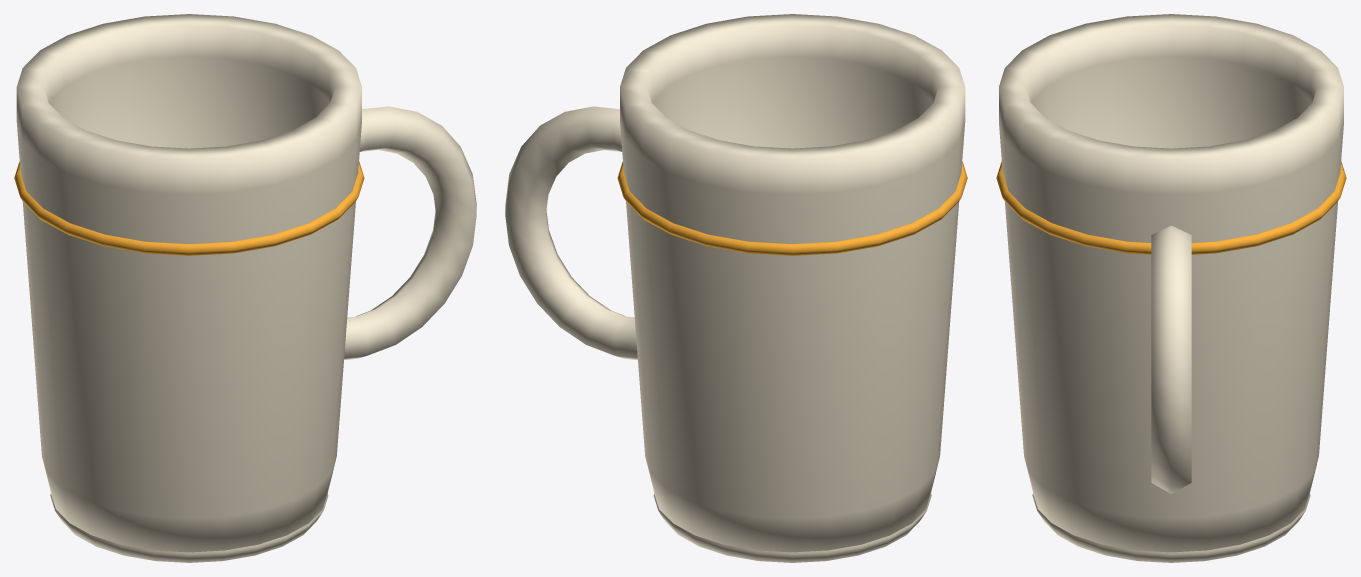
The model's file is ceramic_cup.fbx.
The picture shows the model from 3 angles, left to right: view 1: azimuth 30°, elevation 25°; view 2: azimuth 150°, elevation 25°; view 3: azimuth 270°, elevation 25°; orthographic projection.
Parts seen in each view (by area): view 1: Cup_HollowBody, Cup_Handle, Cup_OchreBand, Cup_Foot; view 2: Cup_HollowBody, Cup_Handle, Cup_OchreBand, Cup_Foot; view 3: Cup_HollowBody, Cup_Handle, Cup_OchreBand, Cup_Foot.
Part boxes in pixels (x1=…): Cup_HollowBody: x1=16, y1=14, x2=361, y2=552; Cup_Handle: x1=344, y1=106, x2=476, y2=360; Cup_OchreBand: x1=14, y1=161, x2=364, y2=255; Cup_Foot: x1=50, y1=493, x2=328, y2=562; Cup_HollowBody: x1=620, y1=14, x2=965, y2=552; Cup_Handle: x1=505, y1=106, x2=637, y2=360; Cup_OchreBand: x1=617, y1=161, x2=967, y2=255; Cup_Foot: x1=653, y1=493, x2=931, y2=562; Cup_HollowBody: x1=999, y1=14, x2=1343, y2=552; Cup_Handle: x1=1151, y1=225, x2=1191, y2=494; Cup_OchreBand: x1=996, y1=161, x2=1346, y2=254; Cup_Foot: x1=1032, y1=493, x2=1310, y2=562.
Bounding box in the file's own units: 0.3025 × 0.2768 × 0.209.
